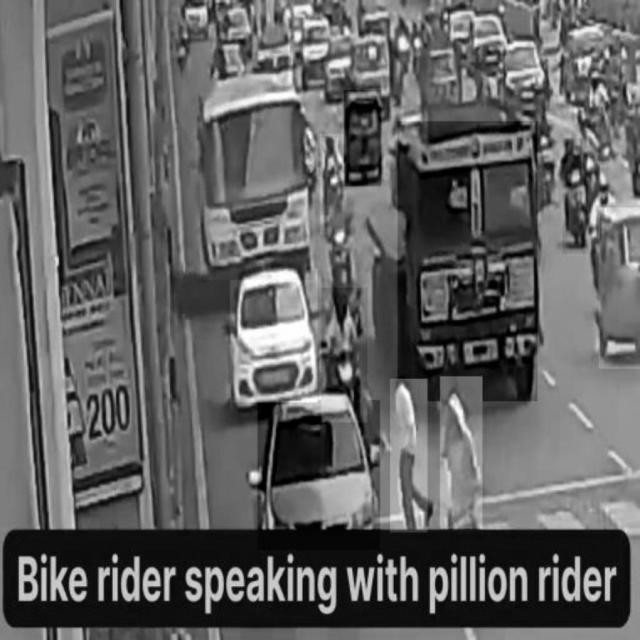person: (441, 377, 483, 529), (390, 379, 428, 533)
vehicle: (397, 121, 538, 401), (200, 93, 314, 280), (257, 400, 379, 550), (230, 269, 318, 403), (599, 208, 640, 368), (321, 288, 367, 422), (344, 90, 381, 186), (324, 206, 354, 317), (563, 139, 588, 253), (320, 134, 344, 235)
